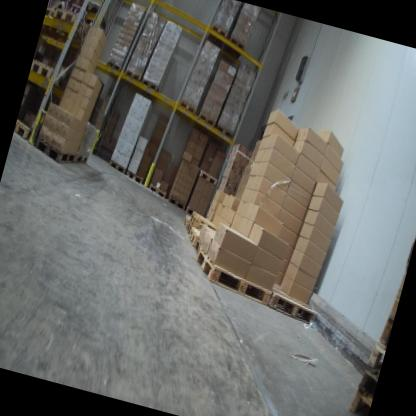pallet: (12, 116, 128, 175), (112, 0, 230, 53), (189, 247, 278, 303), (261, 282, 324, 326), (45, 5, 93, 46), (192, 106, 236, 147), (27, 57, 72, 92), (32, 135, 78, 168), (40, 5, 69, 42), (187, 210, 226, 237), (352, 368, 378, 405), (221, 32, 251, 62), (362, 340, 386, 377), (345, 385, 373, 416), (371, 316, 393, 354), (173, 94, 199, 125), (136, 74, 163, 99), (184, 224, 209, 251), (163, 191, 189, 213), (146, 180, 171, 201), (191, 234, 209, 259), (197, 167, 220, 186), (122, 68, 146, 86), (123, 167, 147, 185), (104, 59, 127, 77), (71, 149, 91, 168), (183, 205, 206, 221), (181, 213, 193, 230), (184, 222, 193, 235)
